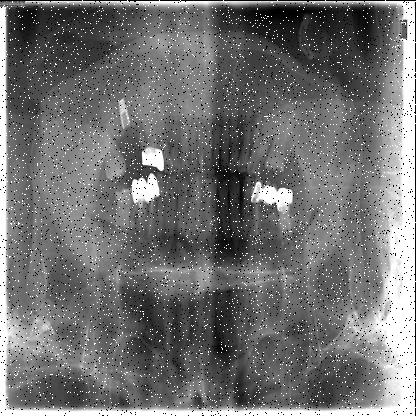Bicon: (116, 91, 134, 138)
